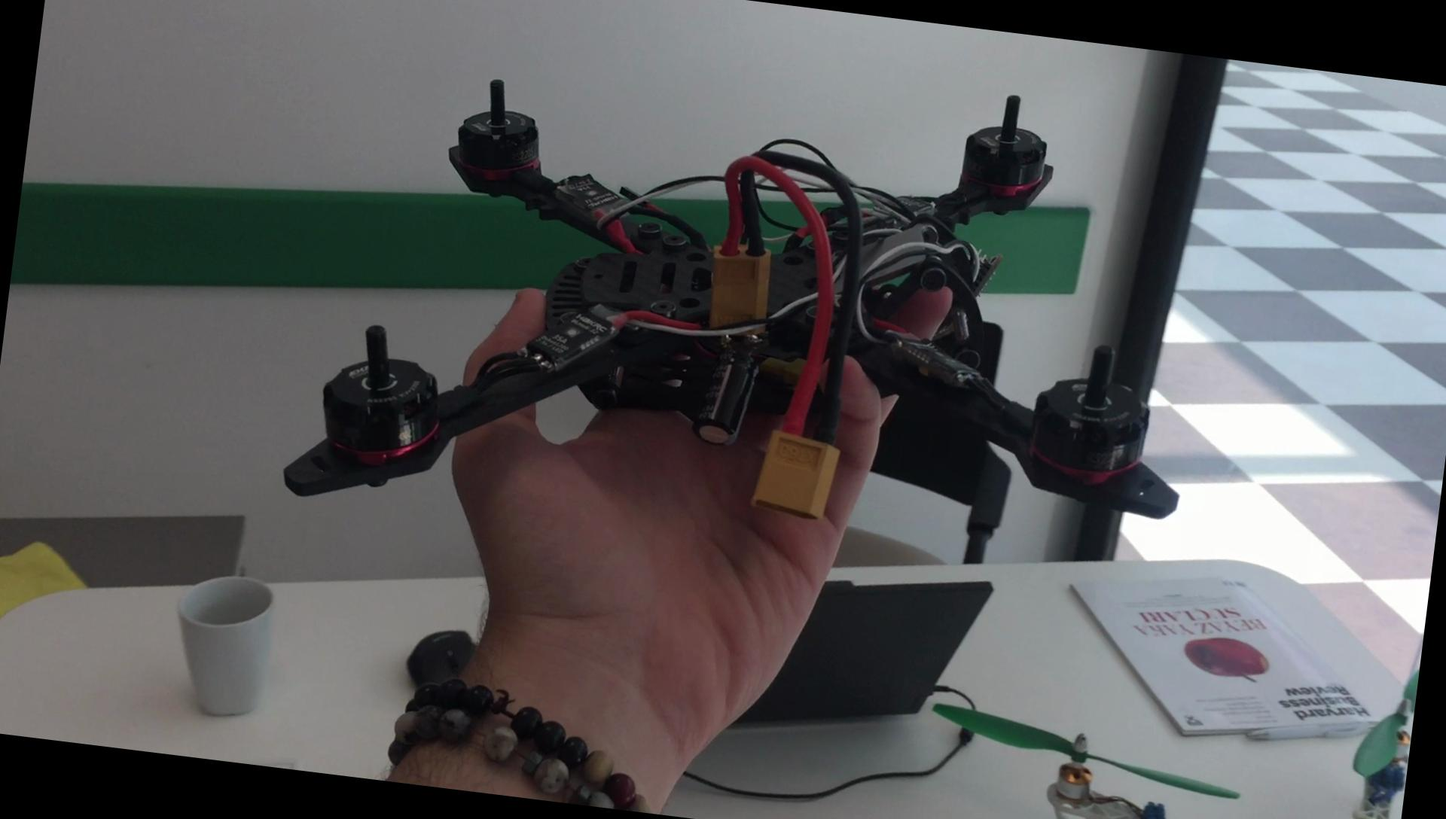drone: (303, 0, 1236, 585)
